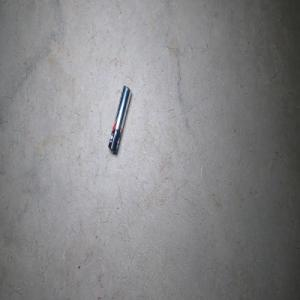Battery: (108, 84, 131, 154)
